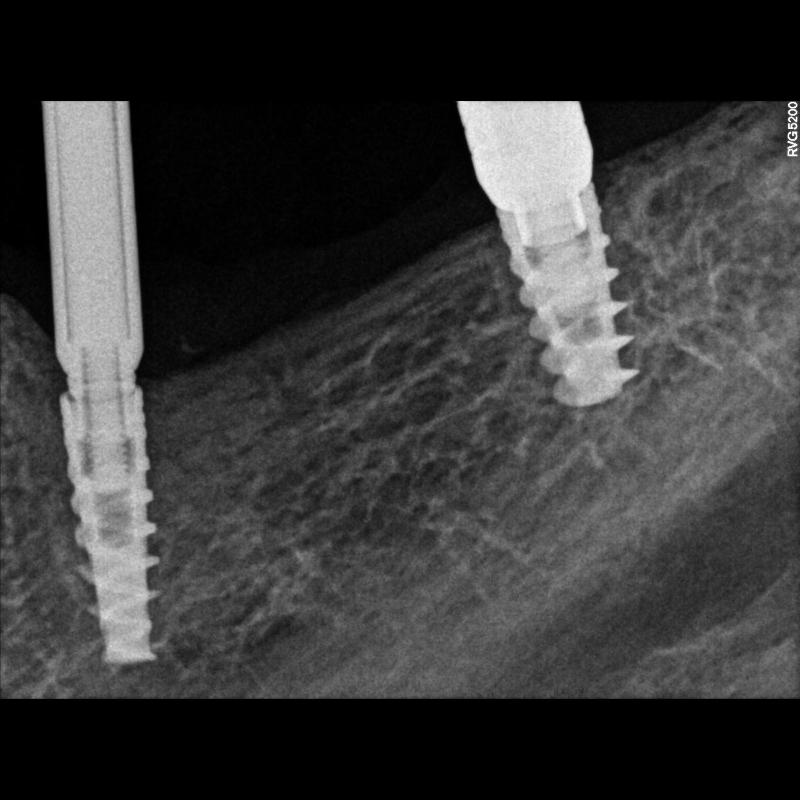ADIN: (482, 176, 648, 418), (48, 392, 186, 668)
